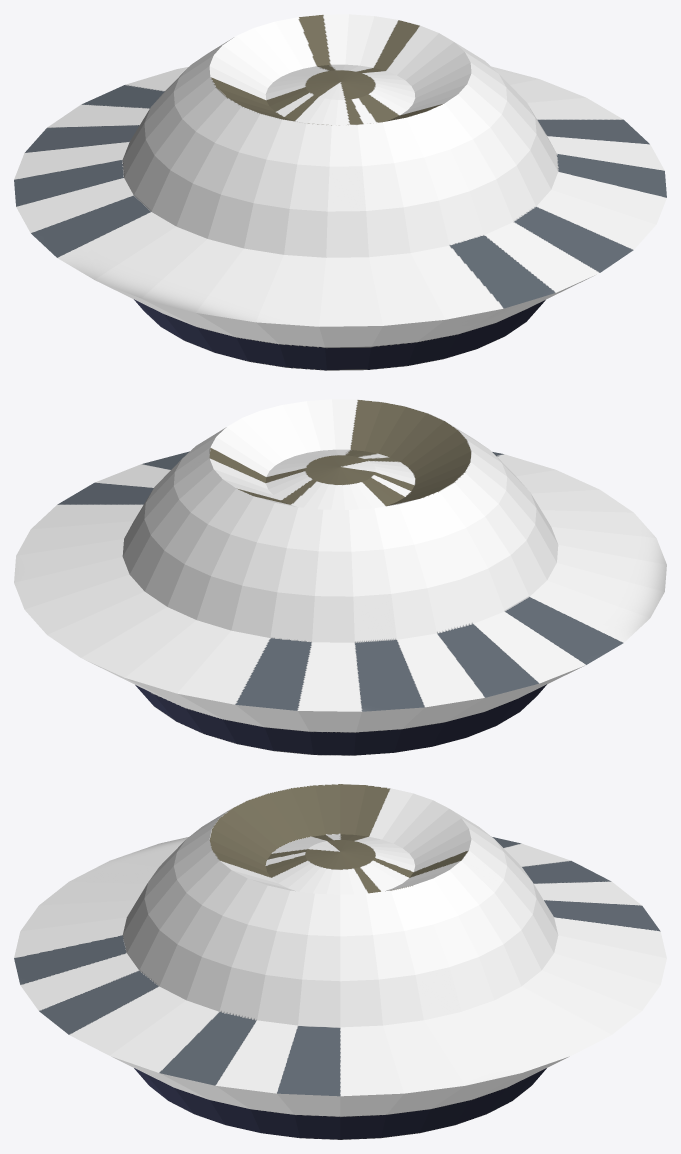
Rendered from UFO.fbx.
The picture shows the model from 3 angles, top to bottom: view 1: azimuth 30°, elevation 25°; view 2: azimuth 150°, elevation 25°; view 3: azimuth 270°, elevation 25°; orthographic projection.
Parts seen in each view (by area): view 1: Sphere; view 2: Sphere; view 3: Sphere.
Boxes of the visible parts, x1,y1,x2,y2 form: Sphere: (14,14,666,370); Sphere: (14,399,666,755); Sphere: (14,784,666,1139).
Size of the model in its own units: 61.09 by 24.46 by 61.09.
